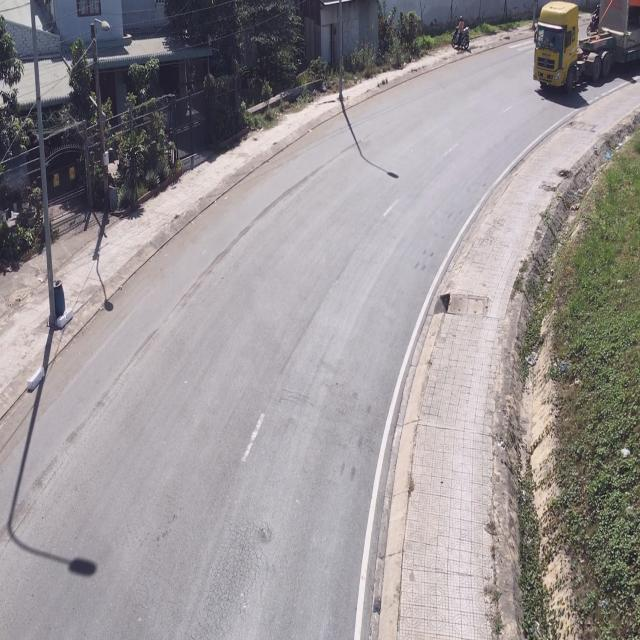motorbike: (451, 17, 470, 53), (586, 1, 600, 33)
truck: (533, 0, 637, 92)
